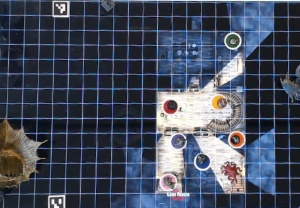blue: (192, 150, 210, 172)
green: (222, 31, 242, 50)
orange: (227, 130, 249, 150)
pink: (159, 173, 179, 192)
red: (162, 98, 179, 116)
violet: (169, 132, 187, 150)
yellow: (210, 93, 227, 111)
